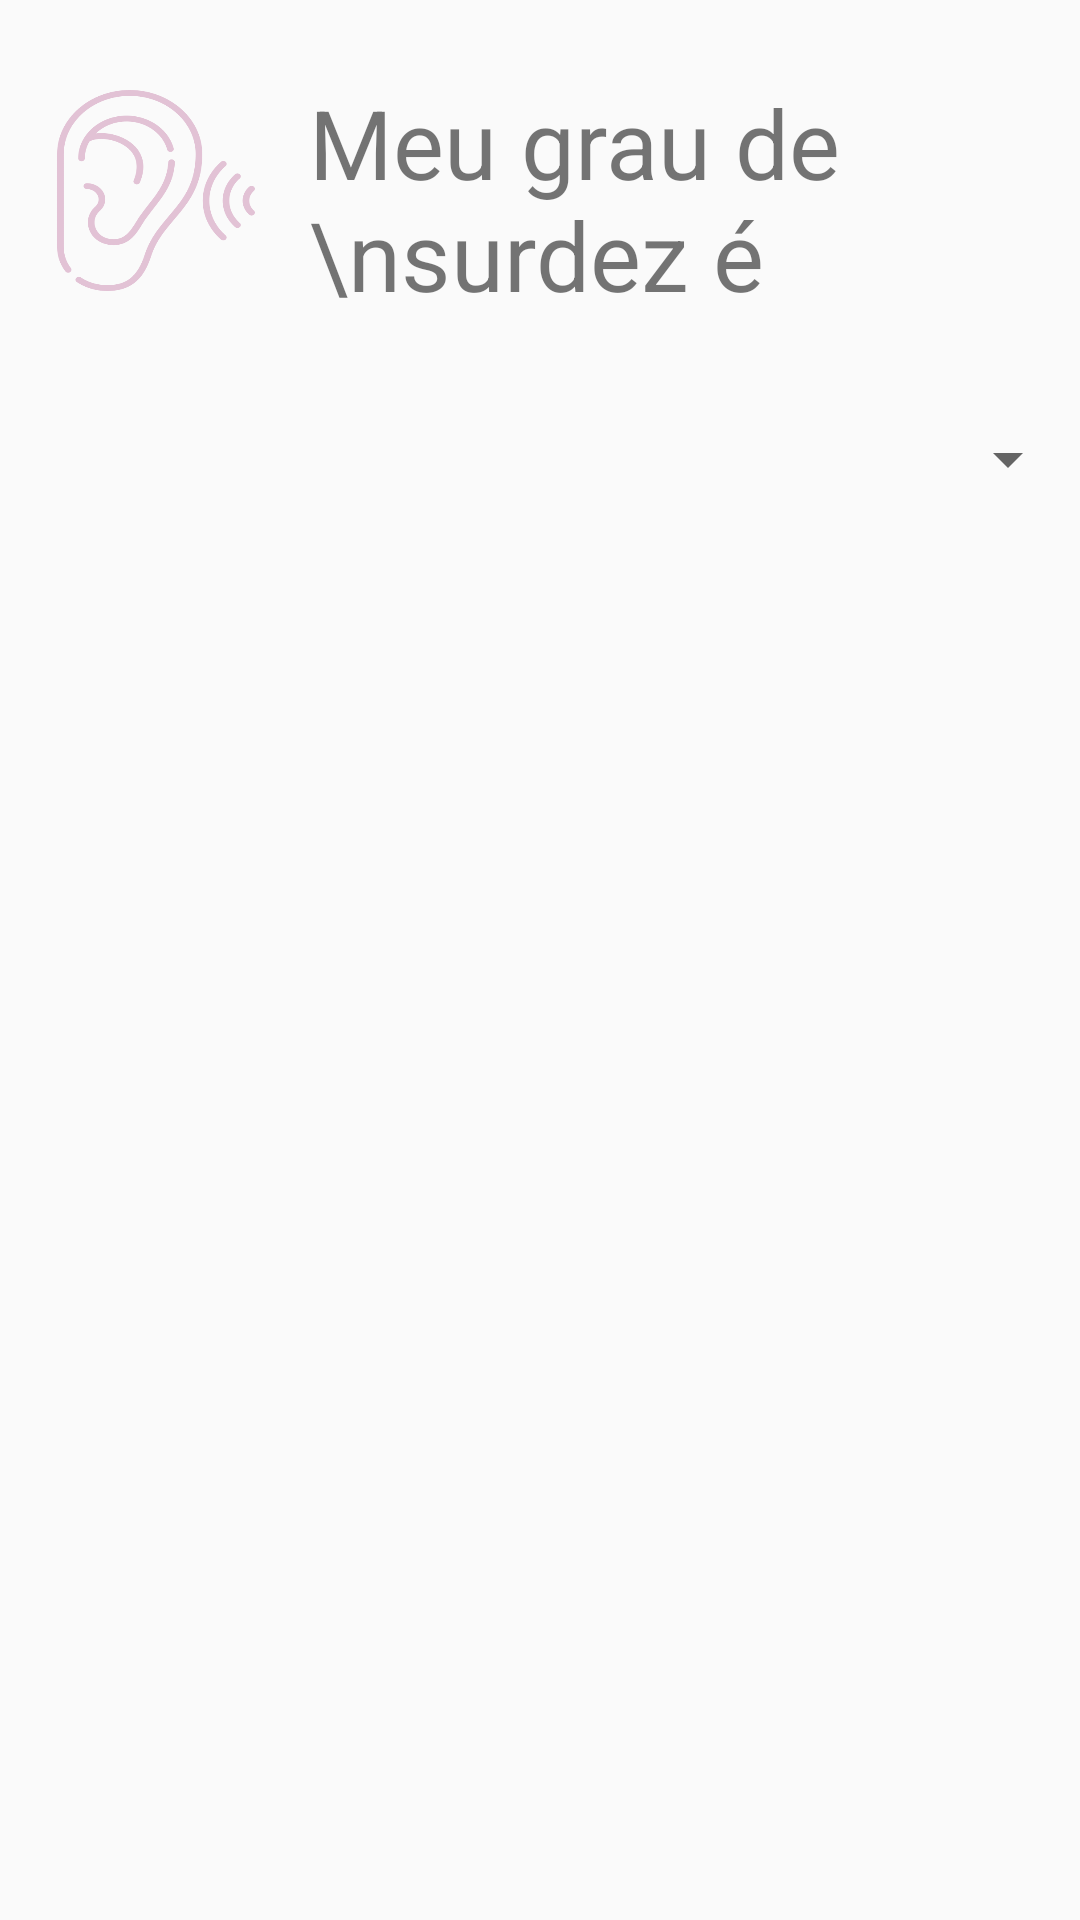

Screen size 1080×1920. Icon name, then its center in pixels as [x,y]:
ear: [156,190]
